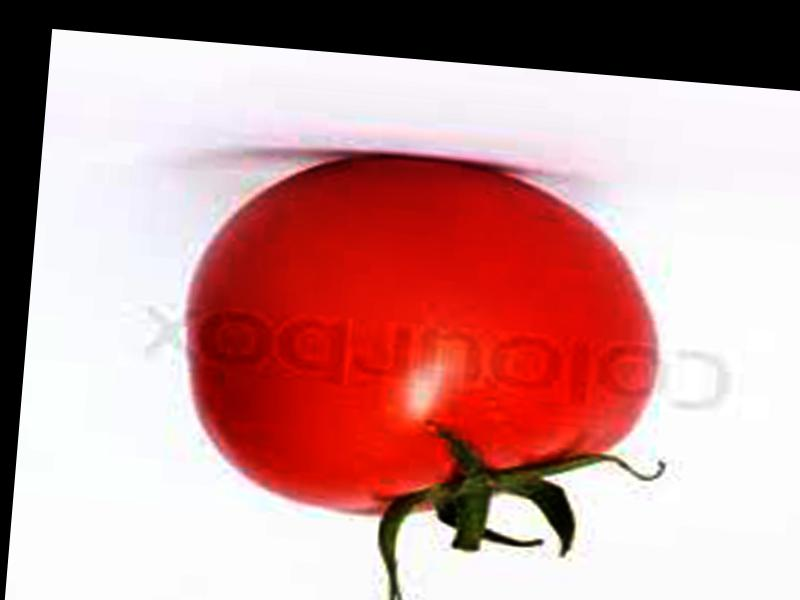Tomato: (173, 145, 667, 538)
